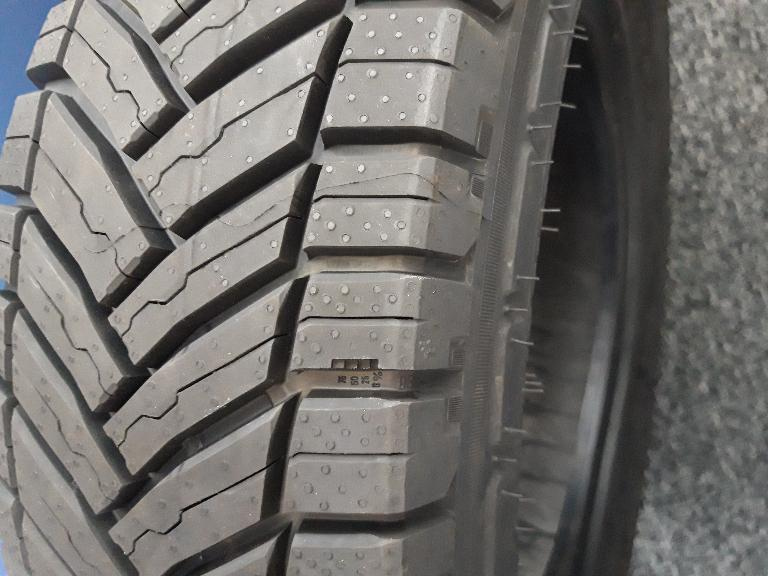temoin:100: (320, 358, 381, 372)
